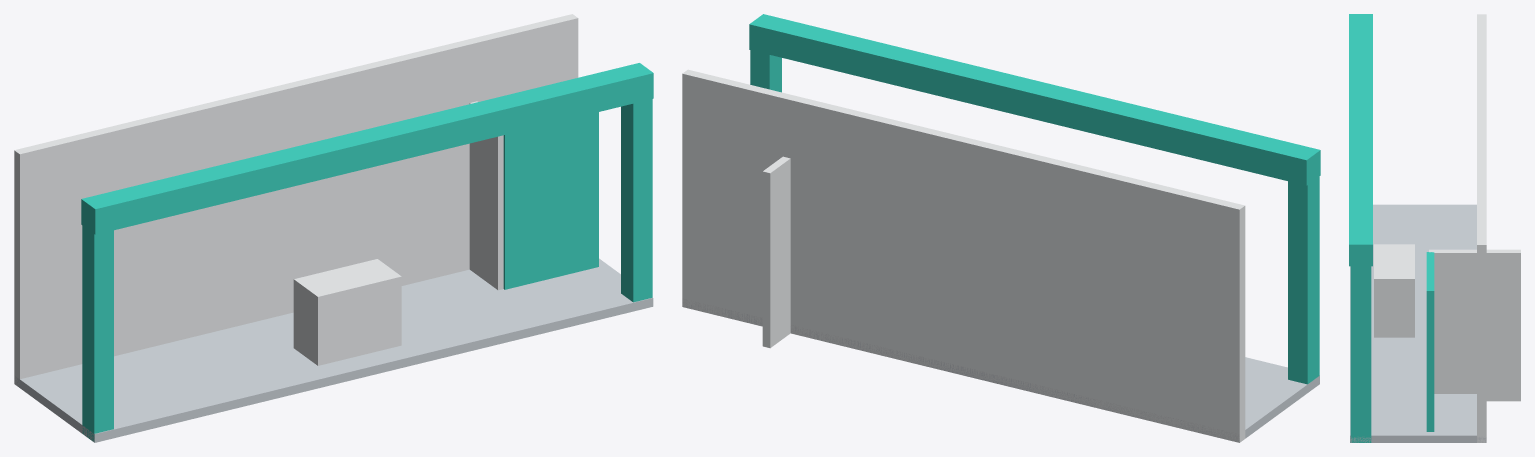
The picture shows the model from 3 angles, left to right: view 1: azimuth 30°, elevation 25°; view 2: azimuth 150°, elevation 25°; view 3: azimuth 270°, elevation 25°; orthographic projection. The views are drawn at different scales.
Parts seen in each view (by area): view 1: Exhibition Booth Concept; view 2: Exhibition Booth Concept; view 3: Exhibition Booth Concept.
Part boxes in pixels (left/top/right/bottom): Exhibition Booth Concept: left=14, top=14, right=653, bottom=442; Exhibition Booth Concept: left=682, top=14, right=1320, bottom=442; Exhibition Booth Concept: left=1349, top=14, right=1520, bottom=442.
Size of the model in its own units: 8 by 3.2 by 2.52.
